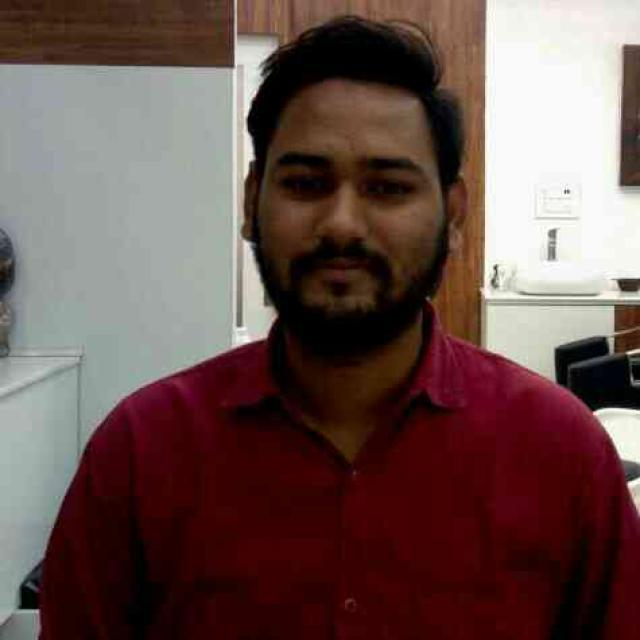Puffy Eyes - v3 Dark Circle: (288, 176, 342, 203), (361, 194, 409, 207)
